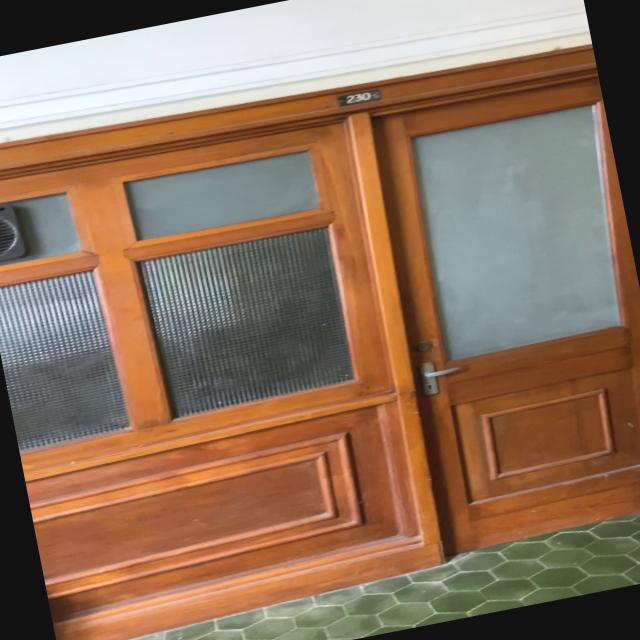room230: (333, 85, 385, 112)
